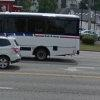Bus: (2, 6, 84, 61)
